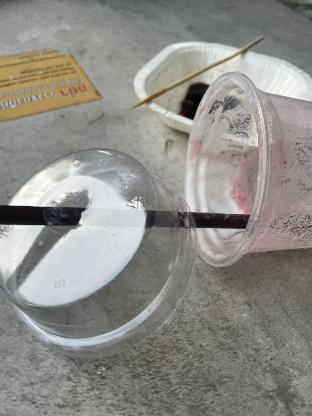Others: (0, 146, 204, 356), (176, 72, 312, 266), (130, 34, 312, 138), (126, 29, 274, 115), (0, 203, 259, 237)
